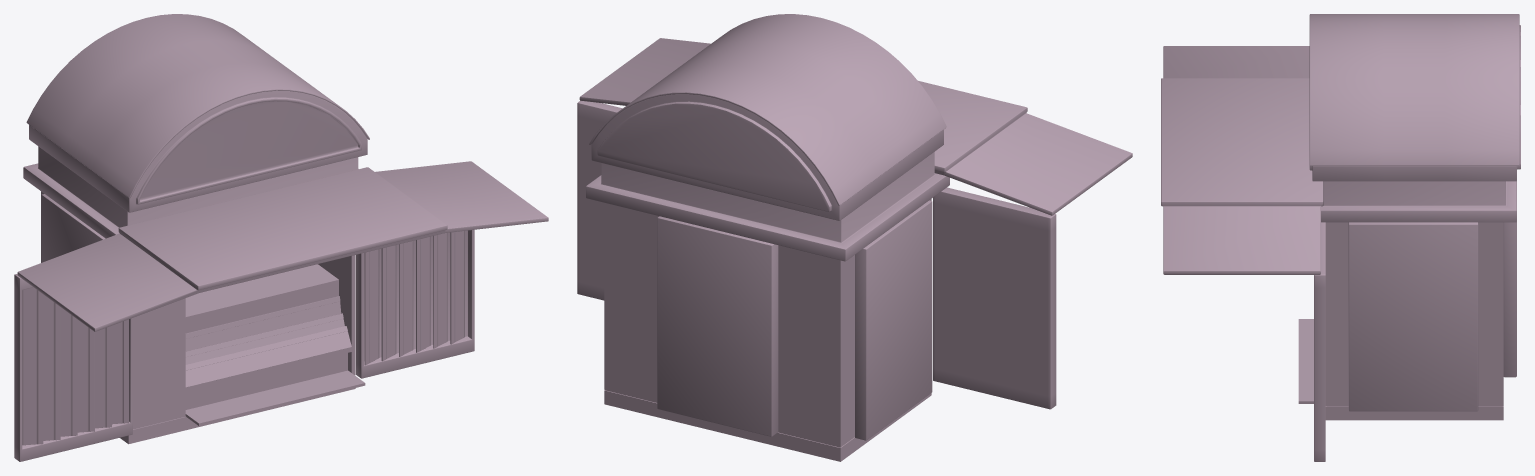
The picture shows the model from 3 angles, left to right: view 1: azimuth 30°, elevation 25°; view 2: azimuth 150°, elevation 25°; view 3: azimuth 270°, elevation 25°; orthographic projection. The views are drawn at different scales.
Parts seen in each view (by area): view 1: Box020; view 2: Box020; view 3: Box020.
Boxes of the visible parts, box(x1,y1,x2,y2) form: Box020: box(14, 14, 548, 461); Box020: box(577, 14, 1132, 461); Box020: box(1161, 14, 1520, 461).
Size of the model in its own units: 601 by 416 by 405.
